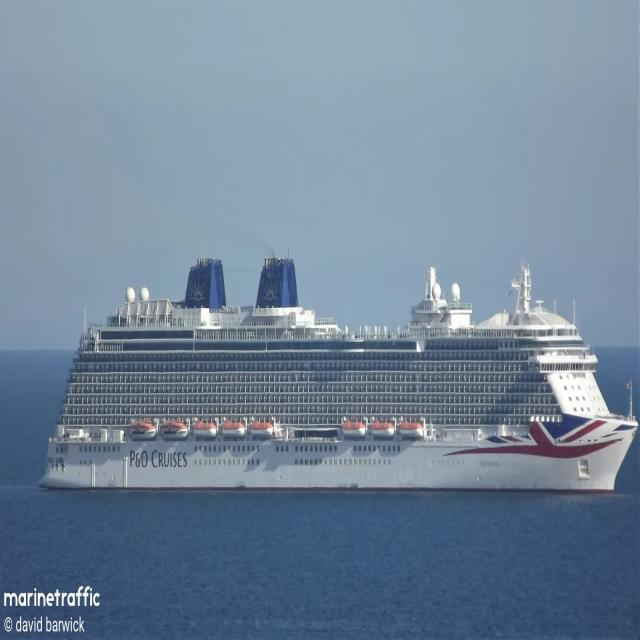Cruise: (41, 258, 637, 491)
